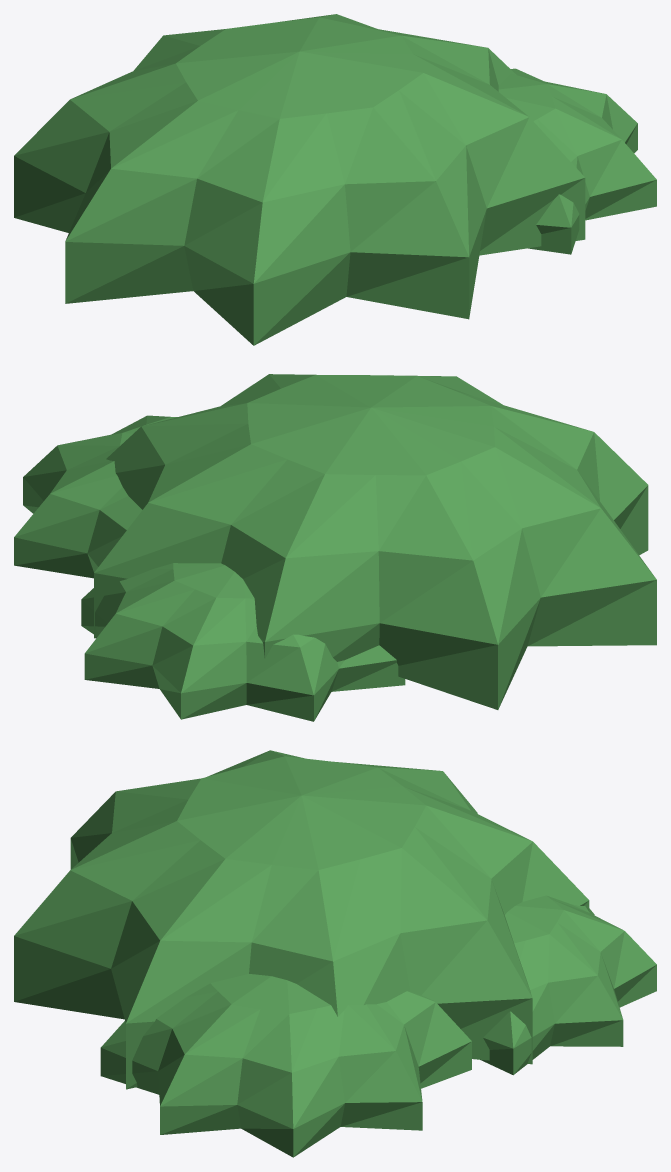
File: moss_b.glb
3 views of the same model, one above another, from view 1: azimuth 30°, elevation 25°; view 2: azimuth 150°, elevation 25°; view 3: azimuth 270°, elevation 25° (orthographic). The views are drawn at different scales.
Parts seen in each view (by area): view 1: moss; view 2: moss; view 3: moss.
Boxes of the visible parts, x1,y1,x2,y2 form: moss: (14,14,656,345); moss: (14,374,656,721); moss: (14,750,656,1157).
Size of the model in its own units: 0.8299 by 0.2394 by 0.7397.
